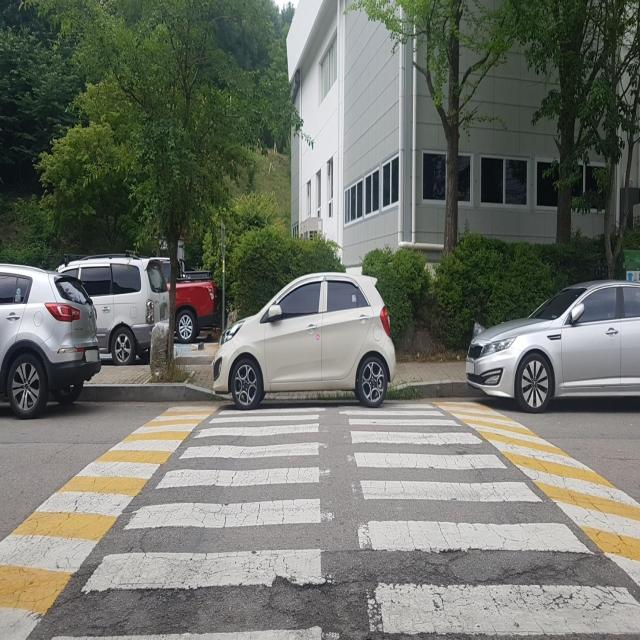횡단보도: (51, 404, 639, 640)
